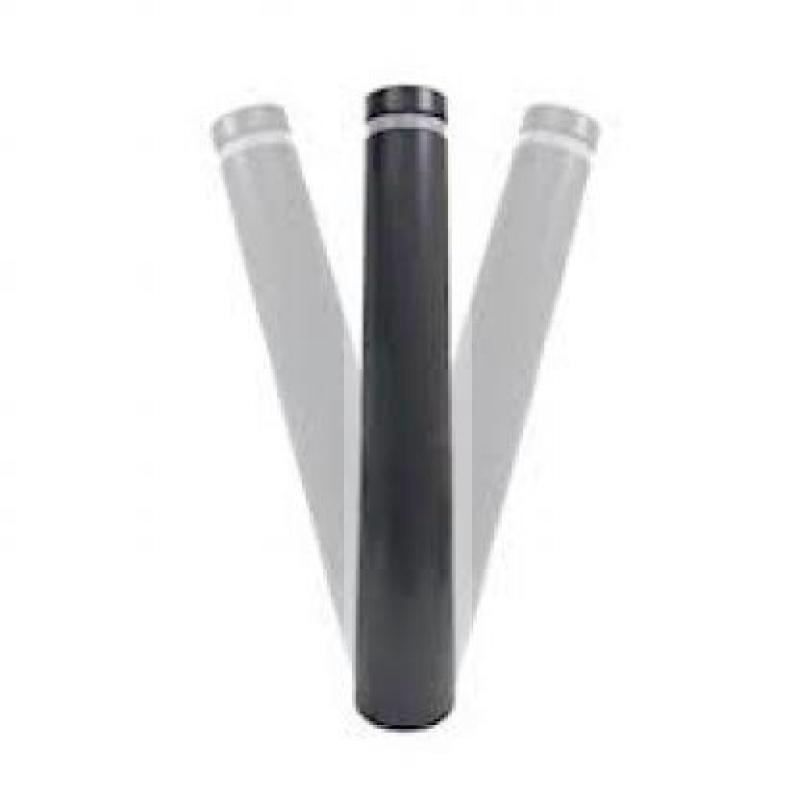bolard: (344, 79, 472, 726)
